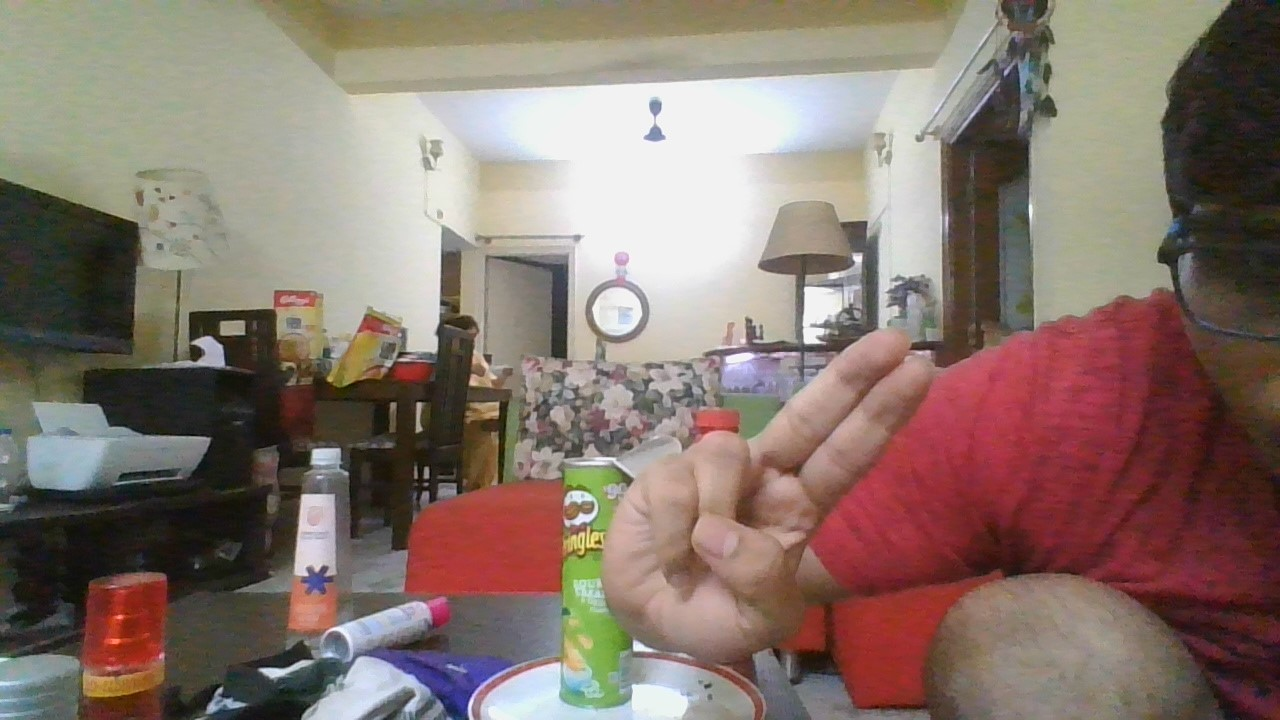u: (601, 321, 940, 666)
